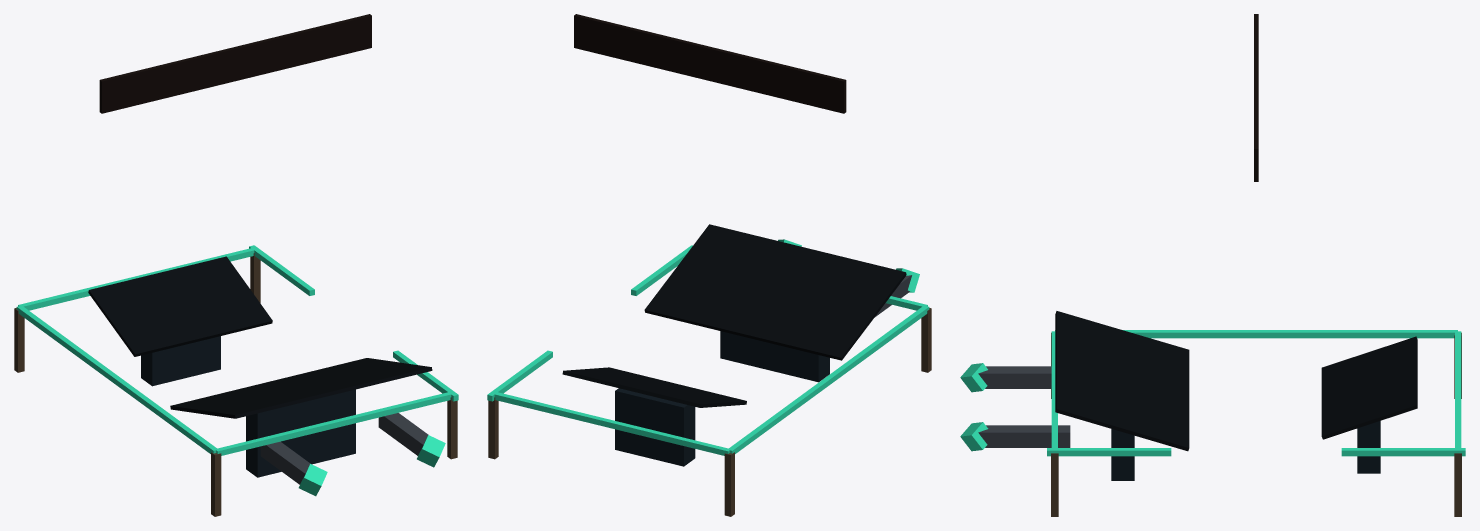
Rendered from skyfleet_bake_17.glb.
3 renders of one model, left to right at view 1: azimuth 30°, elevation 25°; view 2: azimuth 150°, elevation 25°; view 3: azimuth 270°, elevation 25°, orthographic. The views are drawn at different scales.
Parts seen in each view (by area): view 1: baked; view 2: baked; view 3: baked.
Boxes of the visible parts, x1=… form: baked: x1=14, y1=14, x2=458, y2=516; baked: x1=487, y1=14, x2=931, y2=516; baked: x1=960, y1=14, x2=1465, y2=516.
Bounding box in the file's own units: 4.12 × 5.34 × 6.52.
